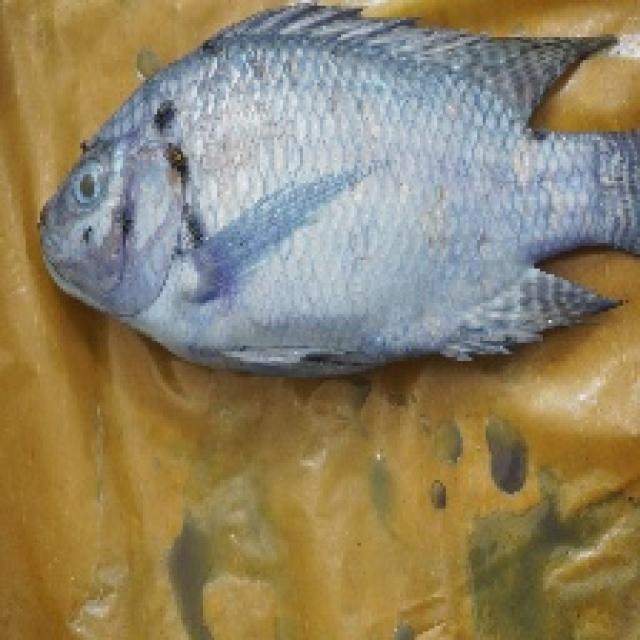Non-Fresh: (122, 50, 553, 366), (64, 150, 116, 220)
